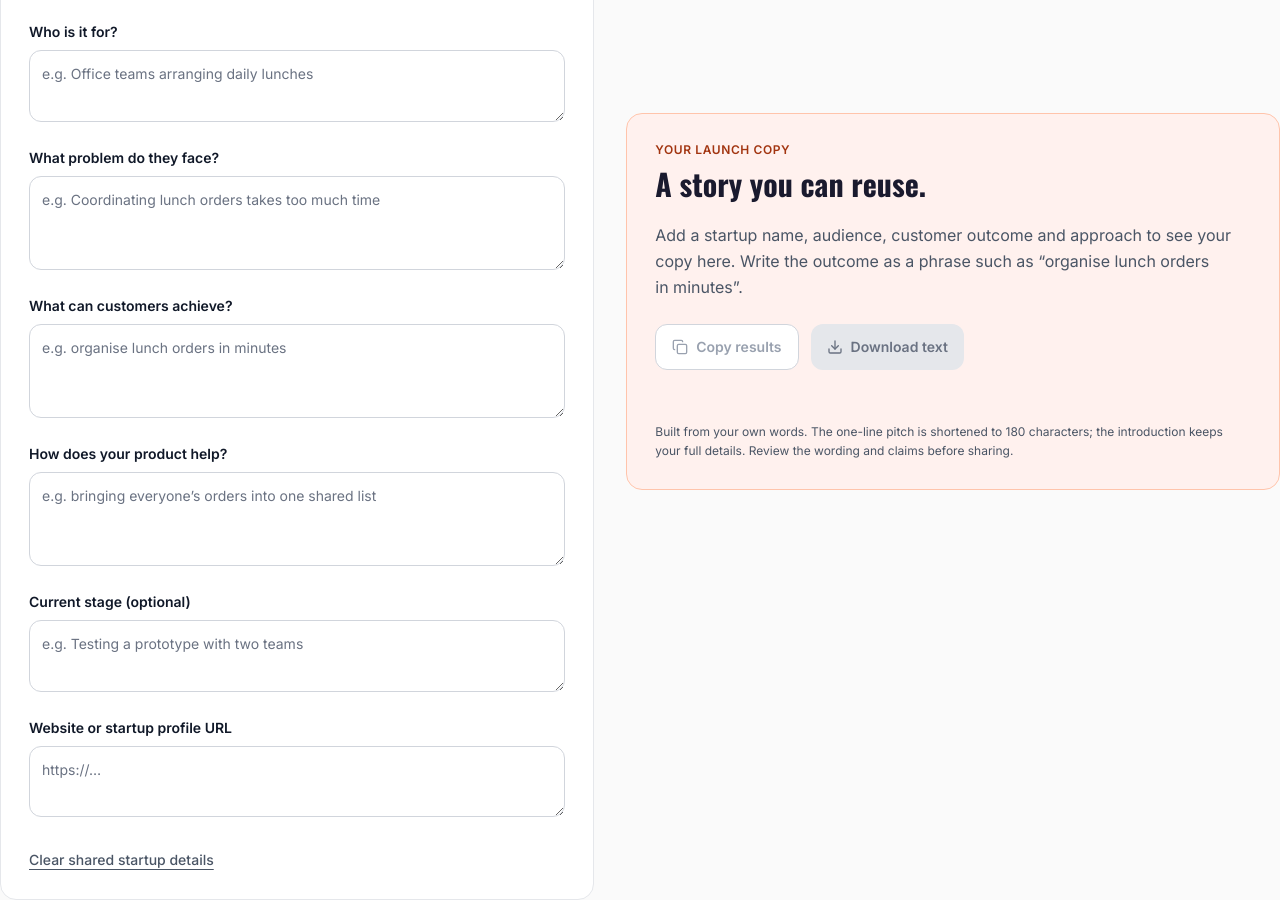
Test: does not resurrect cleared shared details from the launch kit
(page scrolled)
Step 1. Click the button "Clear shared startup details" → (121, 860), box [29,850,214,870]
(page scrolled)
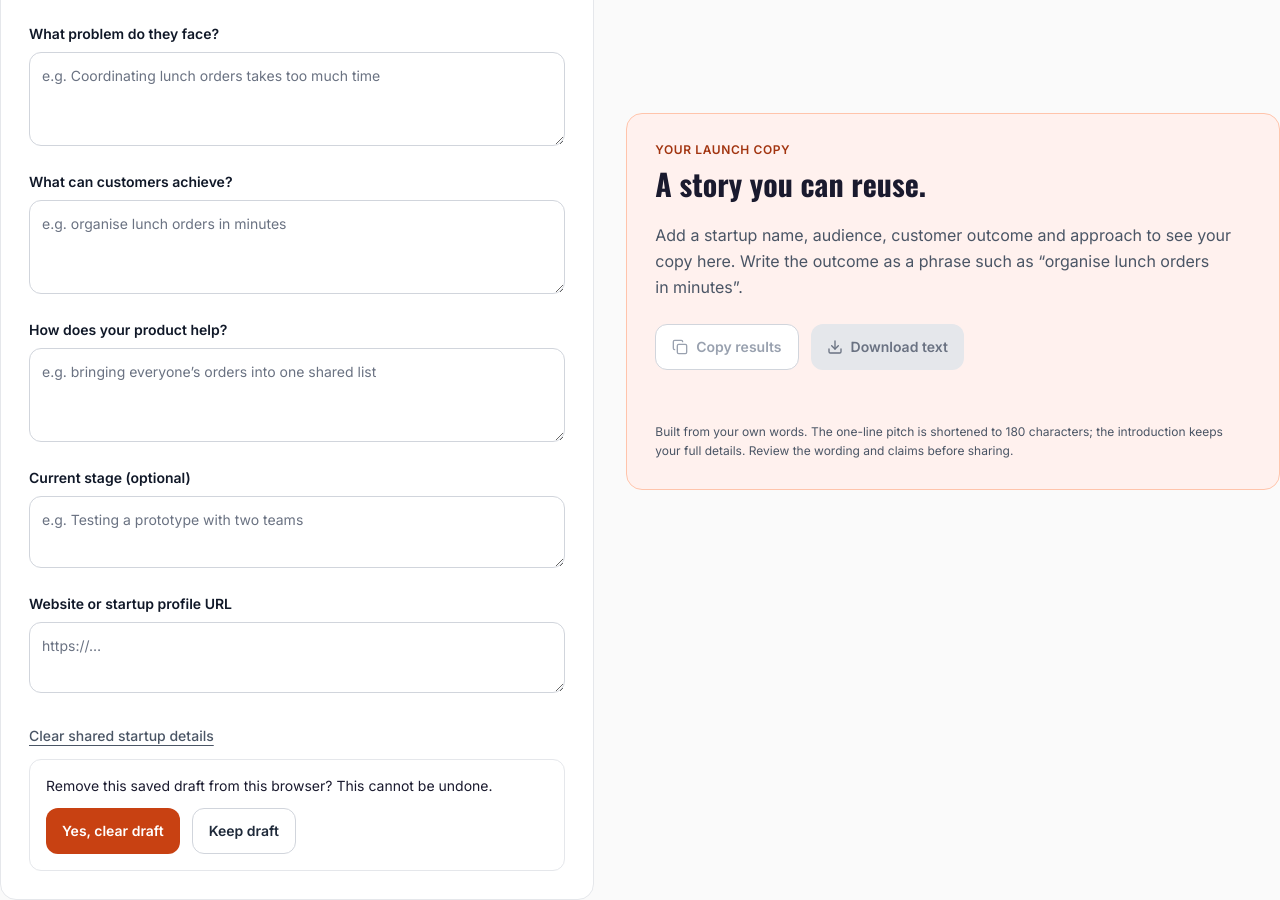
Step 2. Click the button "Yes, clear draft" → (113, 831), box [46,808,180,854]
(page scrolled)
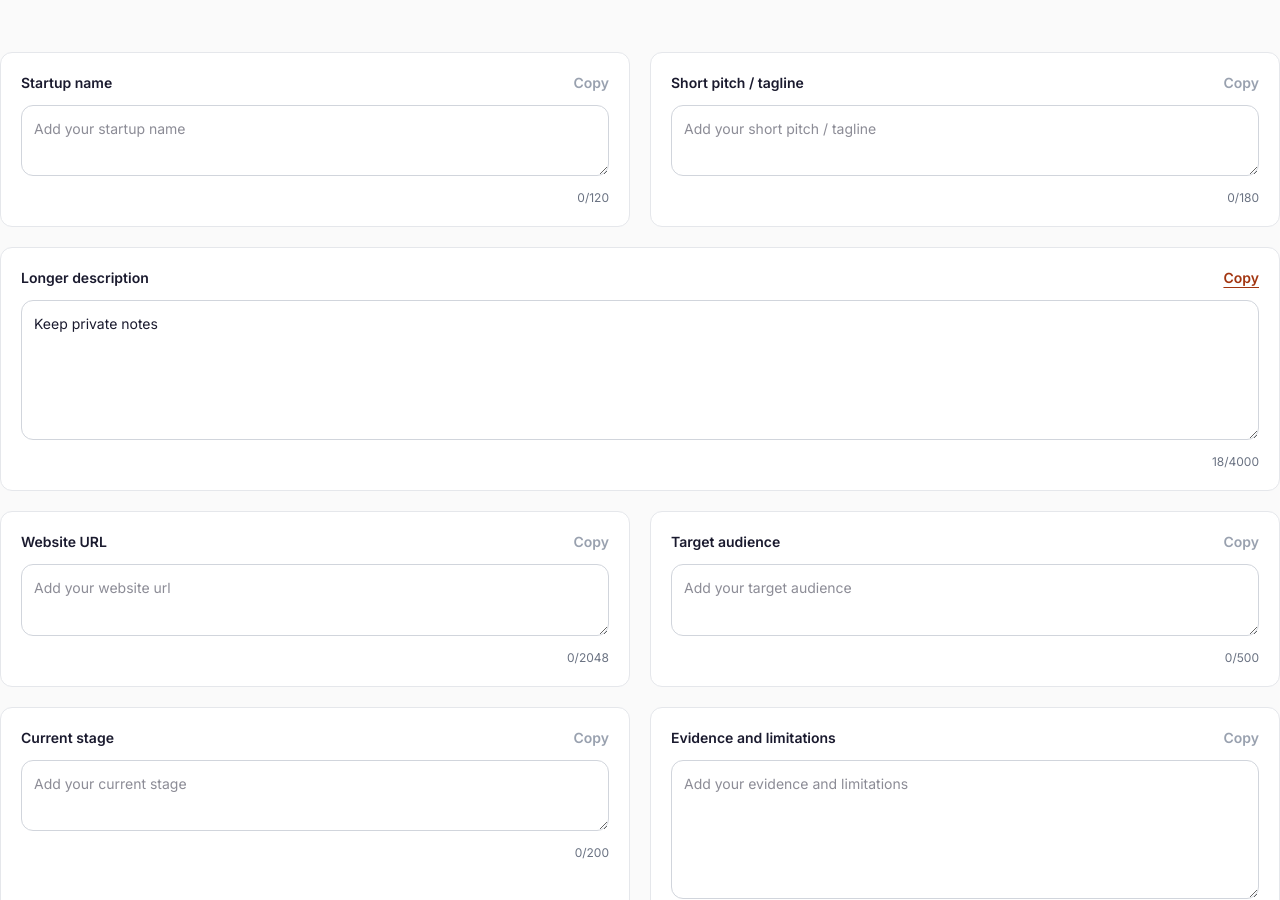
Result: the text box with id "kit-name" is empty at [21,105,609,176]
Result: the text box with id "kit-description" holds "Keep private notes" at [21,300,1259,440]
